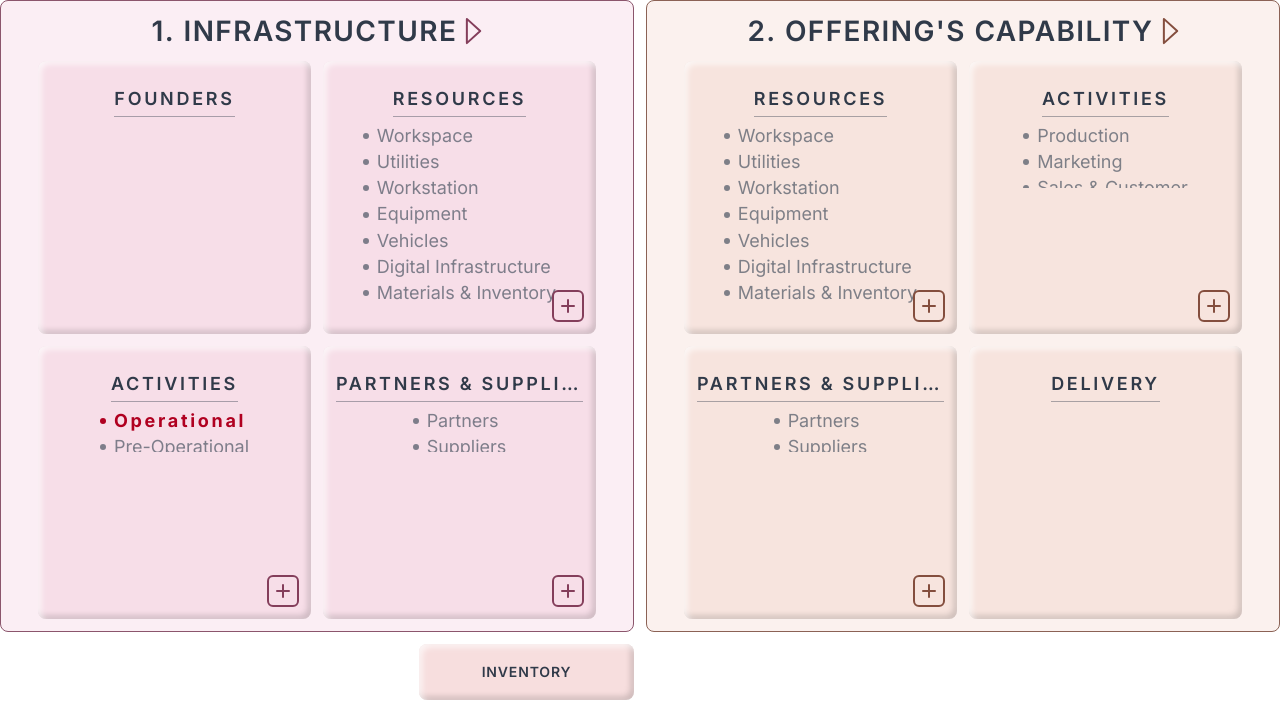
Test: Start date and End date, straight after the name › an activity card asks for both
What coordinates should you click on to do the following:
click the button "Activities" below "1."
I would click on:
 (174, 387)
Its box is left=38, top=346, right=311, bottom=619.
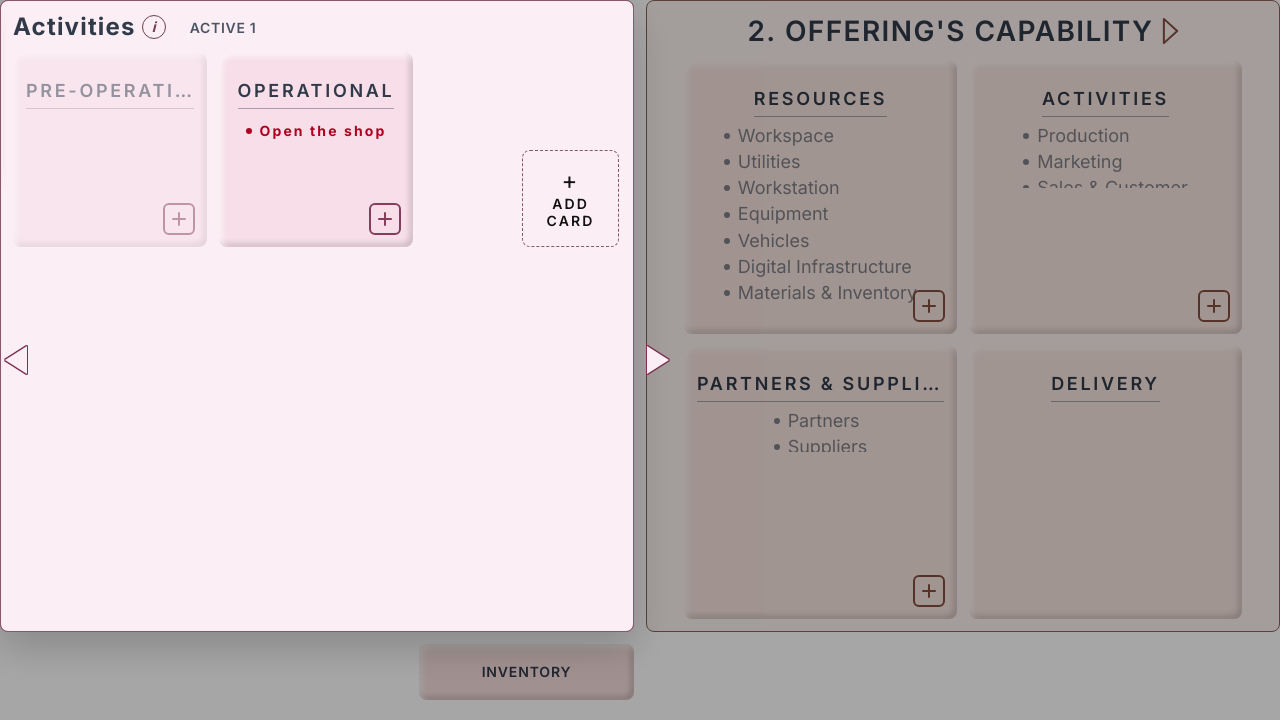
What coordinates should you click on to do the following:
click the button with class "section-tile" showing "Operational"
I would click on:
 (316, 150)
Its box is left=219, top=53, right=413, bottom=247.
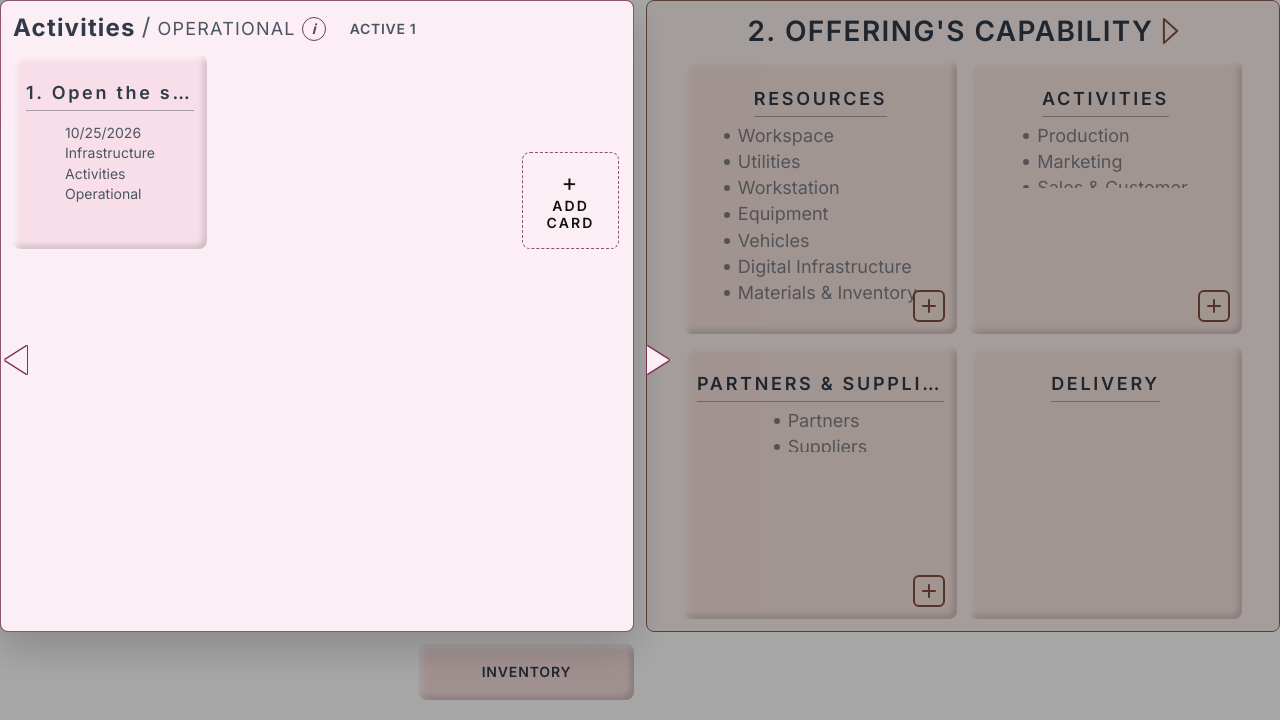
What coordinates should you click on to do the following:
click the button with class "card-tile"
I would click on:
 (110, 152)
Its box is left=13, top=55, right=207, bottom=249.
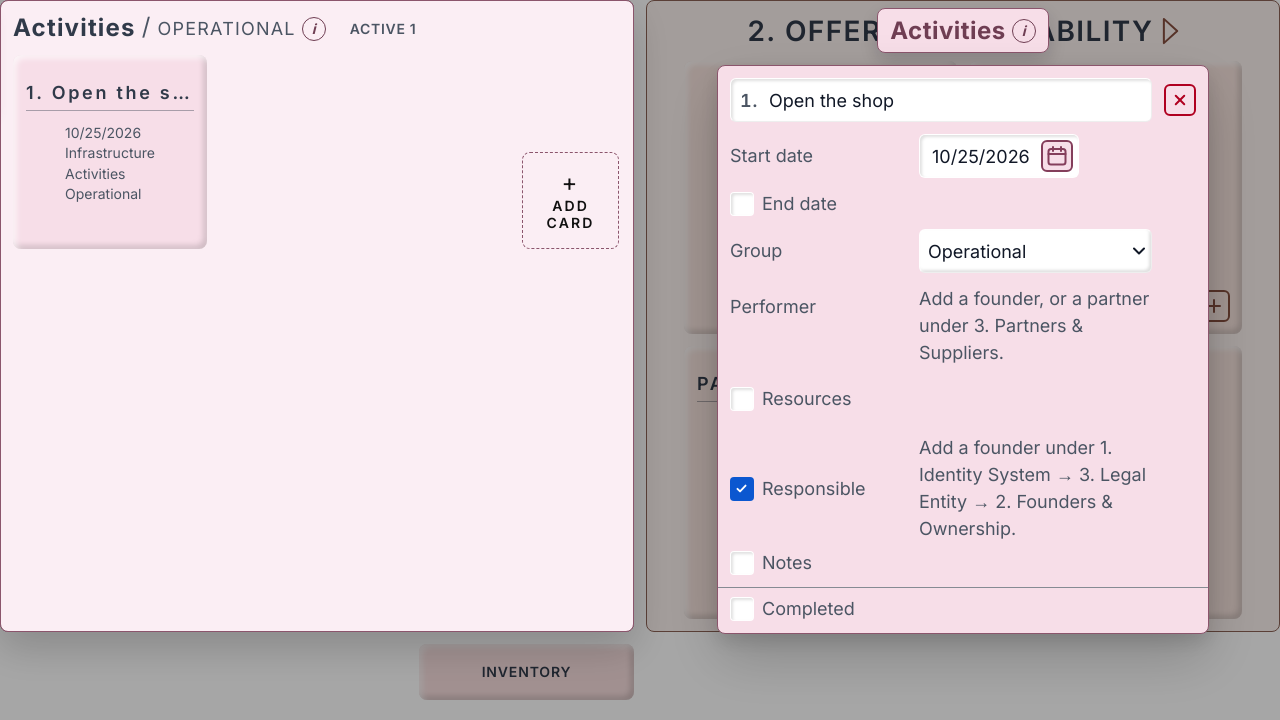
expect the field named "Activity 1 start date" is shown: met, box left=919, top=134, right=1079, bottom=178
What coordinates should you click on to do the following:
click the checkbox named "Activity 1 has an end date"
I would click on:
 (742, 204)
Its box is left=730, top=192, right=754, bottom=216.
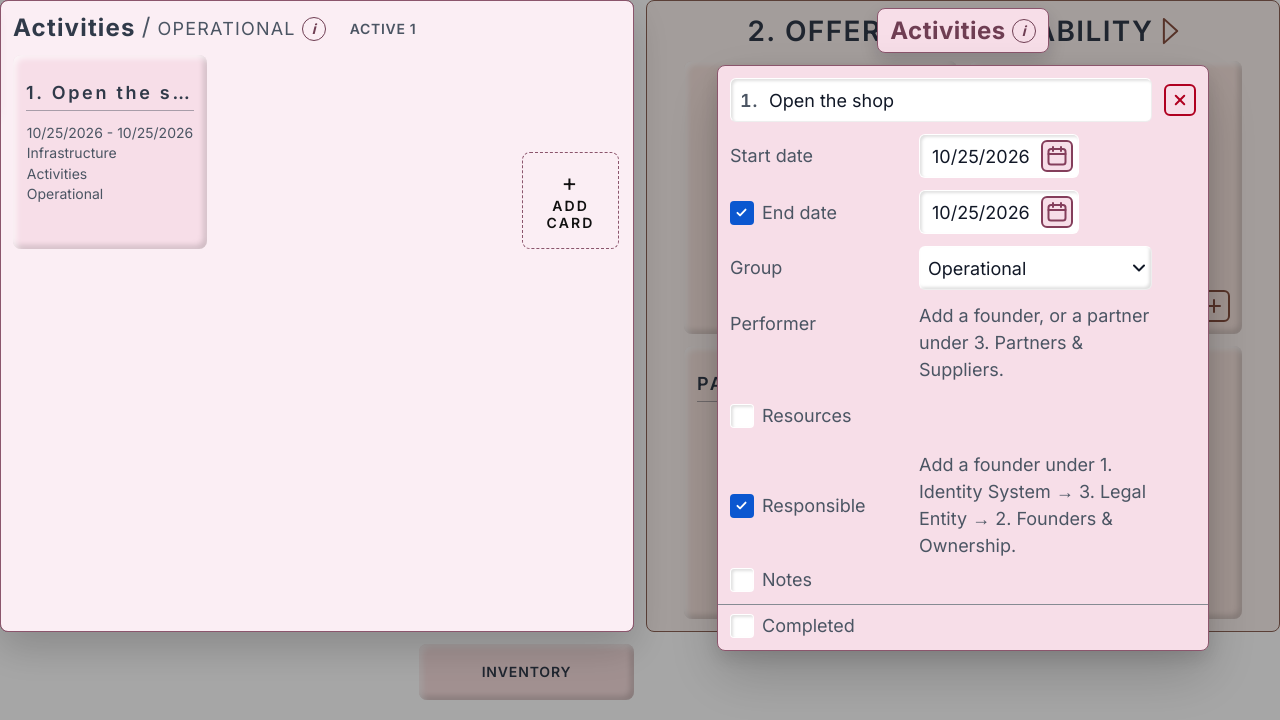
expect the field named "Activity 1 end date" is shown: met, box left=919, top=190, right=1079, bottom=234
